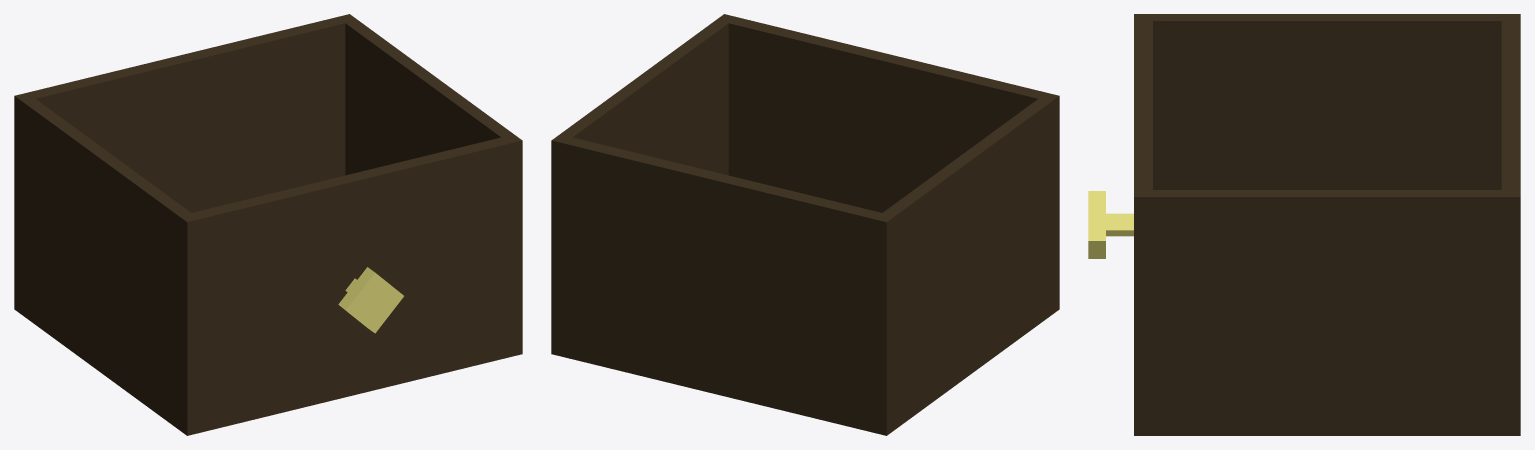
Rendered from Itr_Desk_Drawer_Inside2_02.FBX.
3 renders of one model, left to right at view 1: azimuth 30°, elevation 25°; view 2: azimuth 150°, elevation 25°; view 3: azimuth 270°, elevation 25°, orthographic. The views are drawn at different scales.
Visible parts, largest first — view 1: Itr_Desk_Drawer_Inside2_02; view 2: Itr_Desk_Drawer_Inside2_02; view 3: Itr_Desk_Drawer_Inside2_02.
Boxes of the visible parts, box(x1,y1,x2,y2) form: Itr_Desk_Drawer_Inside2_02: box(14, 14, 522, 435); Itr_Desk_Drawer_Inside2_02: box(551, 14, 1059, 435); Itr_Desk_Drawer_Inside2_02: box(1088, 14, 1520, 435).
Bounding box in the file's own units: 14.4 × 8.77 × 14.37.
